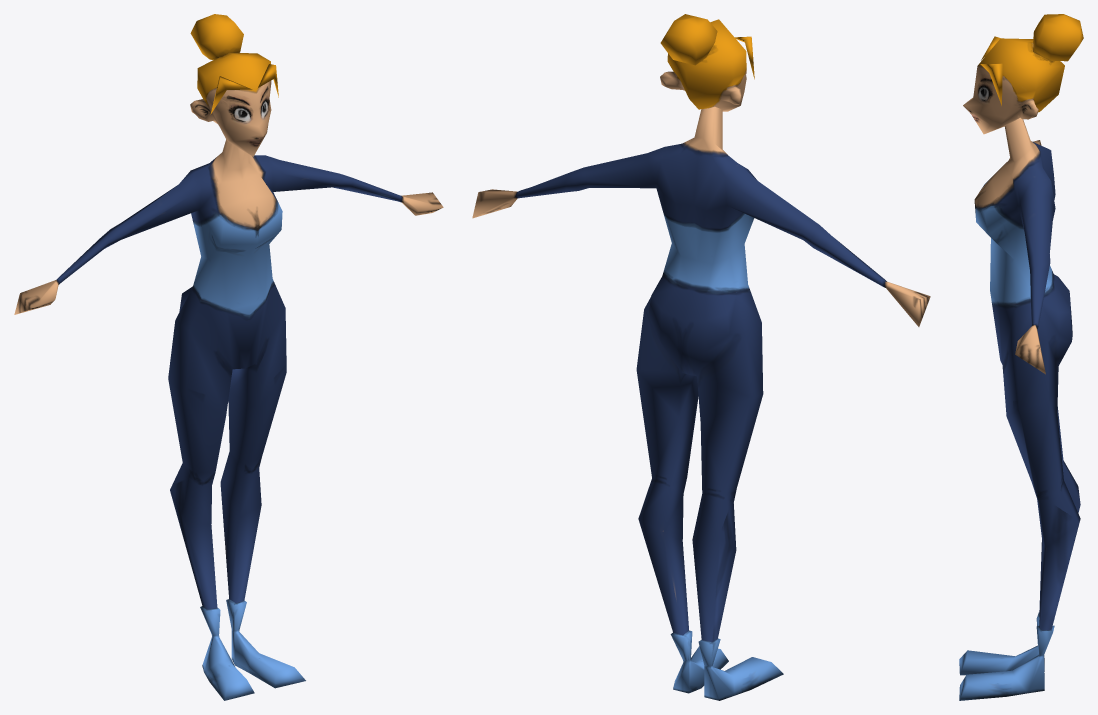
Rendered from cartoon_woman.glb.
3 renders of one model, left to right at view 1: azimuth 30°, elevation 25°; view 2: azimuth 150°, elevation 25°; view 3: azimuth 270°, elevation 25°, orthographic. The views are drawn at different scales.
Visible parts, largest first — view 1: Cube; view 2: Cube; view 3: Cube.
Part boxes in pixels (<box>): Cube: <box>14,14,443,700</box>; Cube: <box>472,14,930,700</box>; Cube: <box>959,14,1083,700</box>.
Size of the model in its own units: 115 by 168 by 28.63.
Materials: 1 (1 with a texture image).
